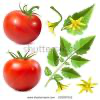Tomato leaf: (55, 35, 77, 60), (74, 33, 97, 54), (66, 55, 99, 68), (46, 46, 61, 70), (61, 67, 85, 80)
